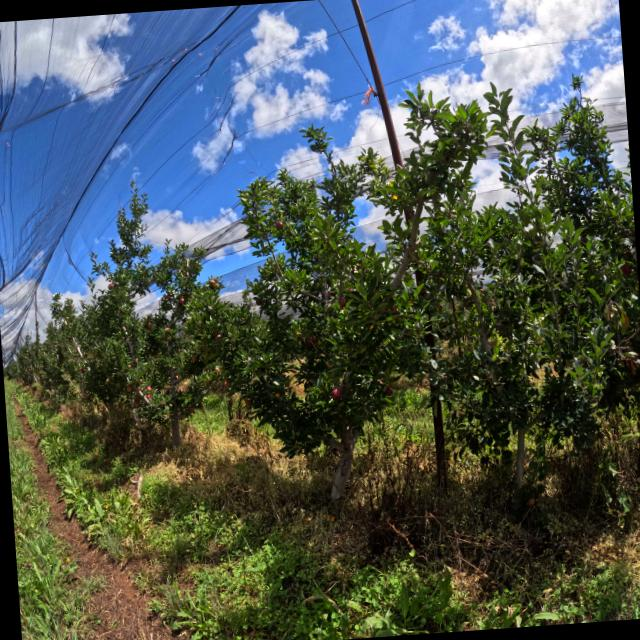-FireBlight-: (621, 351, 639, 374)
